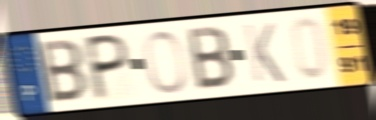0: (288, 14, 331, 84)
B: (38, 37, 90, 106), (185, 24, 237, 93)
K: (241, 21, 288, 85)
O: (141, 28, 190, 96)
P: (84, 31, 131, 104)
